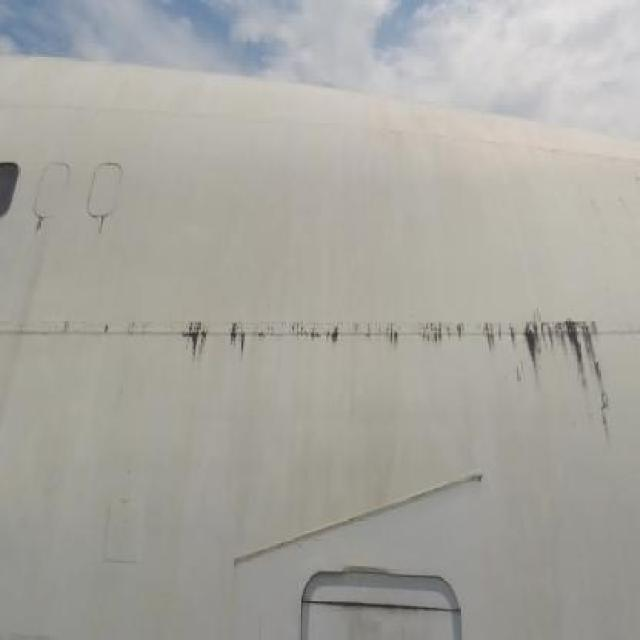Rust: (163, 296, 614, 450), (94, 214, 114, 246), (31, 208, 44, 234)
Scartch: (338, 604, 444, 640)
